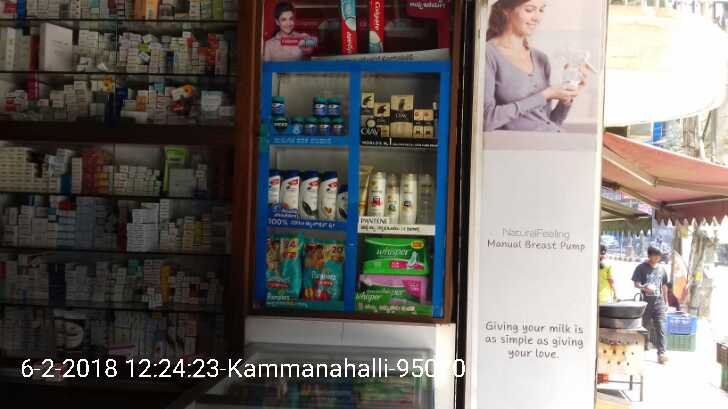beauty: (400, 170, 419, 223), (319, 168, 338, 221), (368, 170, 385, 227), (391, 95, 413, 136), (299, 170, 318, 216), (281, 167, 300, 212), (385, 170, 400, 226), (419, 170, 434, 225), (374, 102, 391, 134), (362, 92, 374, 132), (267, 167, 279, 203), (422, 111, 436, 139), (414, 111, 423, 135)
pharmacy: (267, 232, 306, 306), (366, 235, 432, 278), (305, 237, 342, 300), (361, 274, 433, 306), (312, 95, 327, 118), (303, 116, 319, 137), (329, 116, 344, 136), (272, 94, 285, 117), (327, 98, 341, 116), (319, 118, 329, 135)
